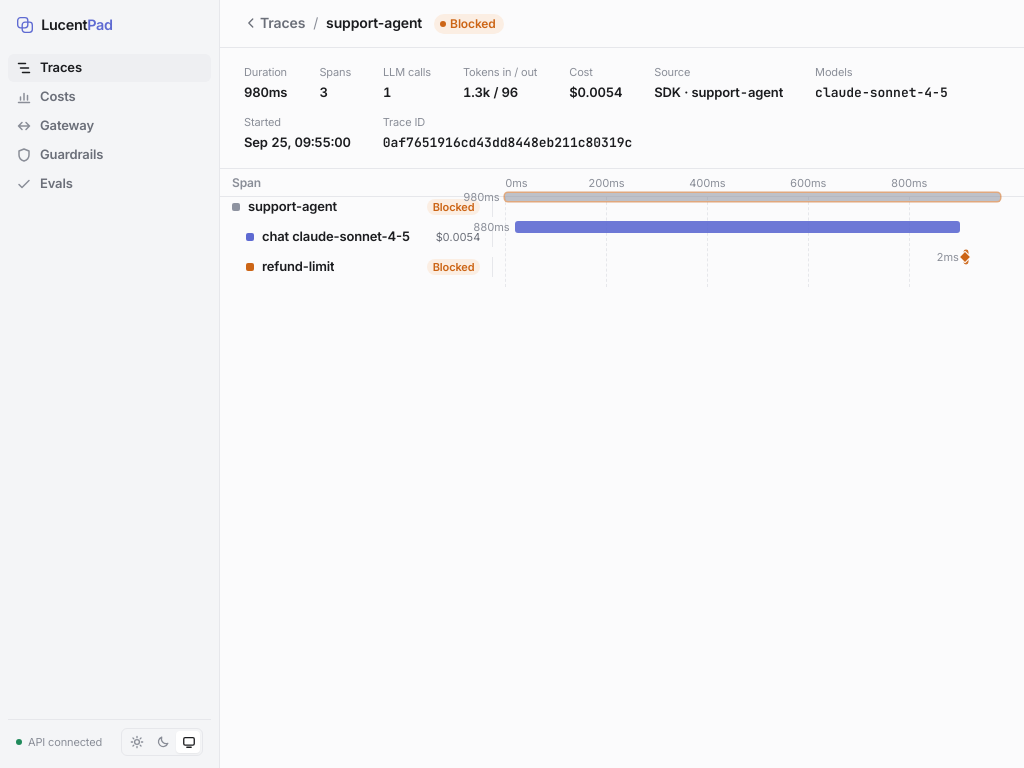
Test: Trace detail › marks blocked guardrail spans and failover events
Expected: the 2nd text "Blocked" is shown, [427,258,480,275]
Expected: the picture named "Guardrail block at" is shown, [959,251,972,263]
Click the button "refund-limit Blocked" at (357, 267), box [220,257,1023,287]
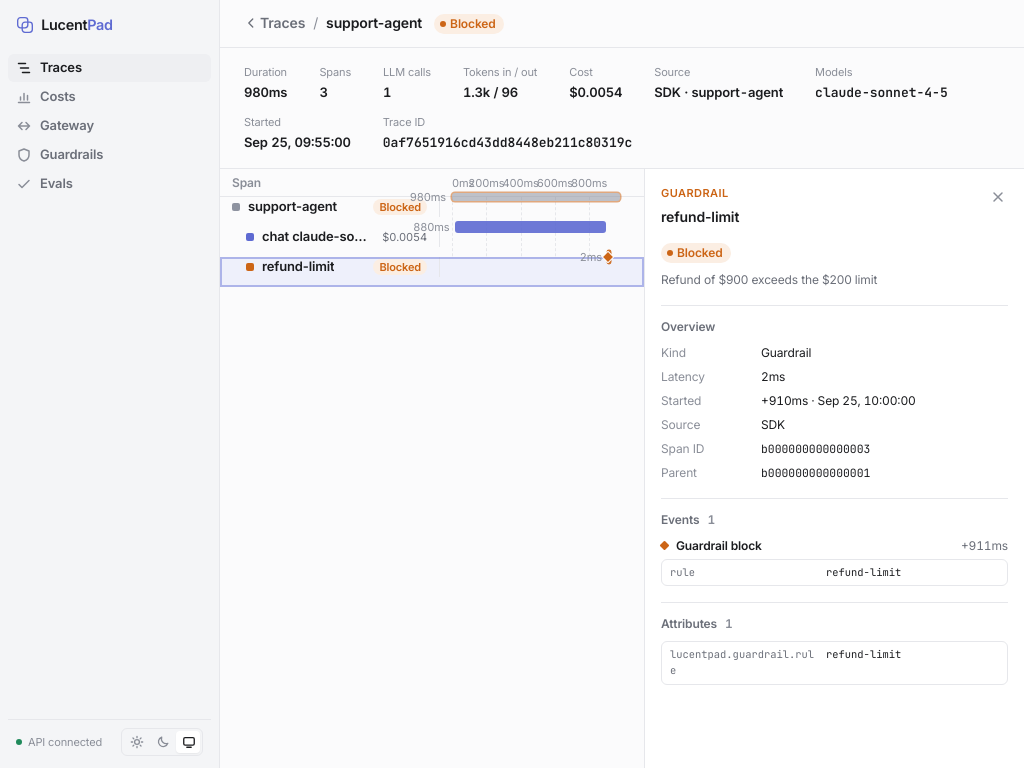
Expected: the text "Refund of $900 exceeds the $200 limit" is shown, [661,270,877,288]
